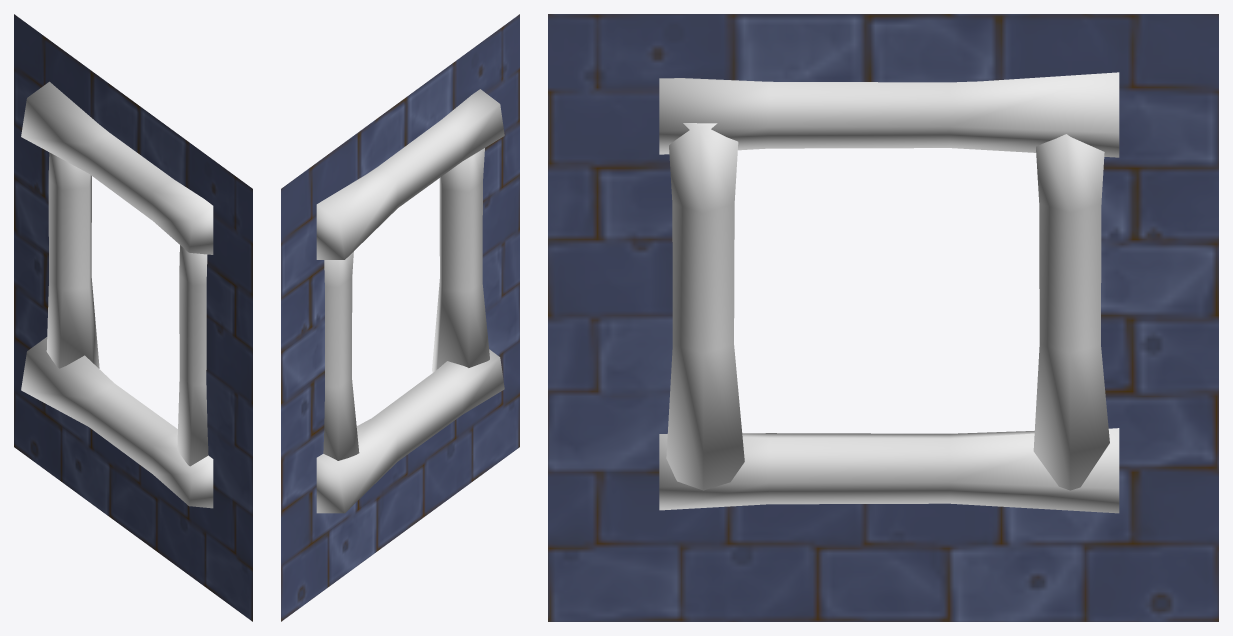
Rendered from WindowLP.fbx.
The picture shows the model from 3 angles, left to right: view 1: azimuth 30°, elevation 25°; view 2: azimuth 150°, elevation 25°; view 3: azimuth 270°, elevation 25°; orthographic projection. The views are drawn at different scales.
Visible parts, largest first — view 1: BaseWall.062, HorNorm.001; view 2: BaseWall.062, HorNorm.001; view 3: BaseWall.062, HorNorm.001.
Boxes of the visible parts, x1=… form: BaseWall.062: x1=14, y1=14, x2=252, y2=621; HorNorm.001: x1=21, y1=81, x2=213, y2=508; BaseWall.062: x1=281, y1=14, x2=519, y2=621; HorNorm.001: x1=316, y1=89, x2=504, y2=513; BaseWall.062: x1=548, y1=14, x2=1218, y2=621; HorNorm.001: x1=659, y1=72, x2=1119, y2=513.
Size of the model in its own units: 29.54 by 200 by 200.
